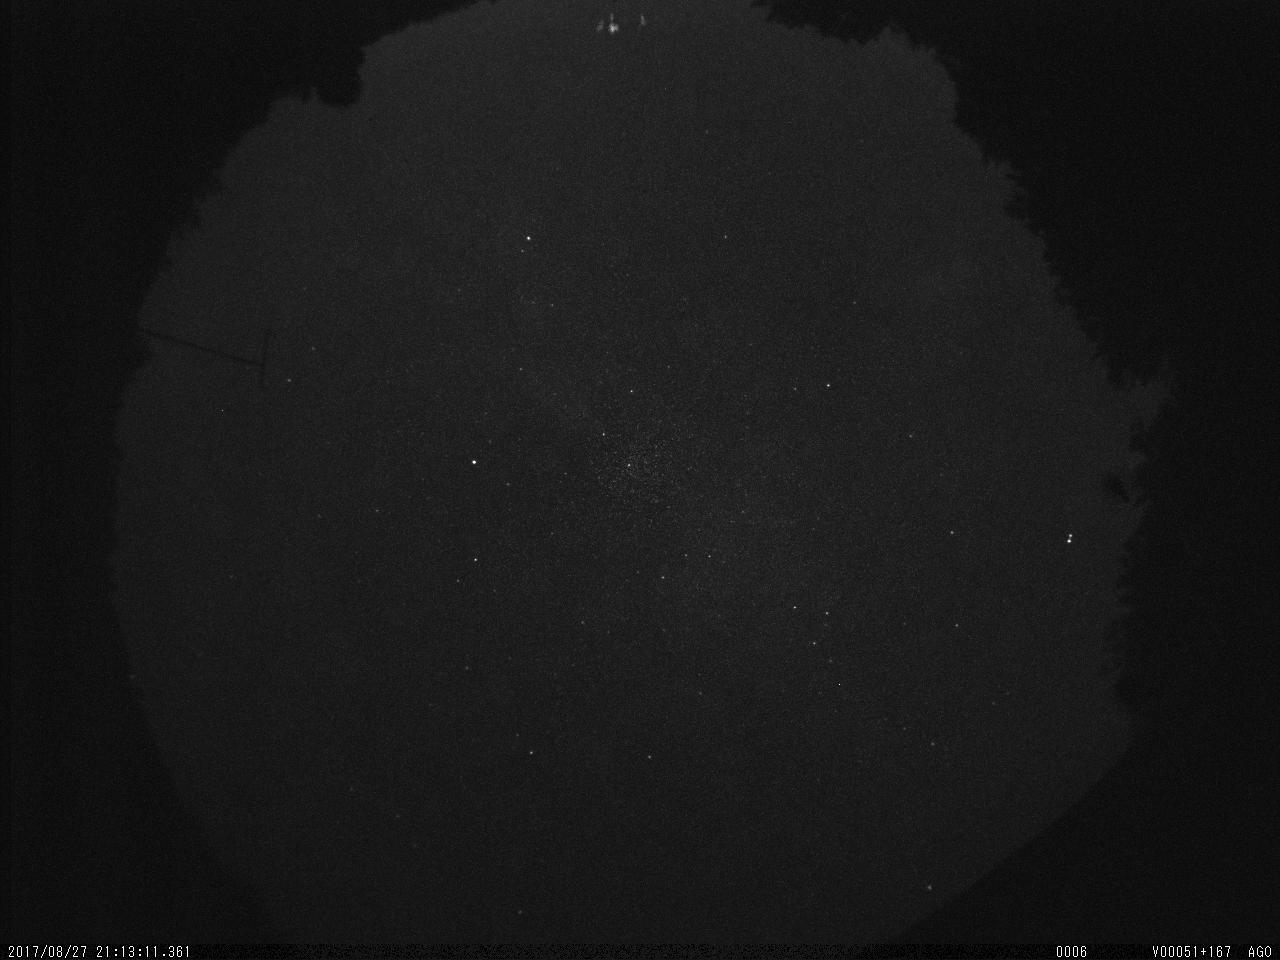TLE: (584, 2, 660, 49)
